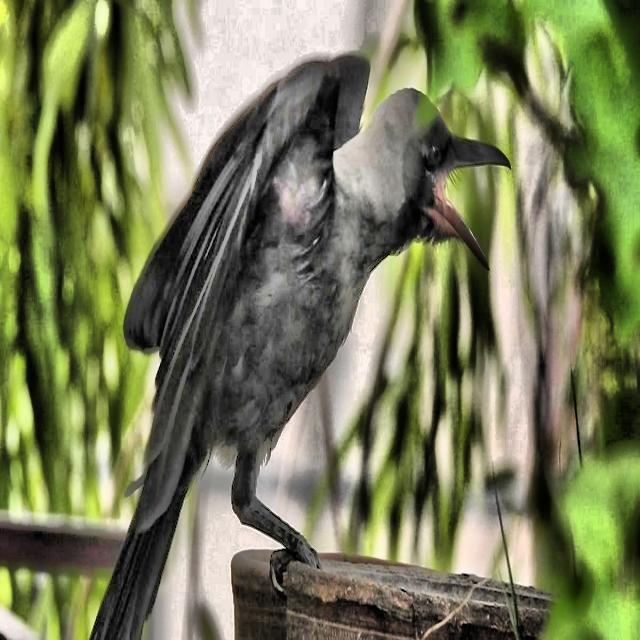crow: (107, 30, 515, 640)
